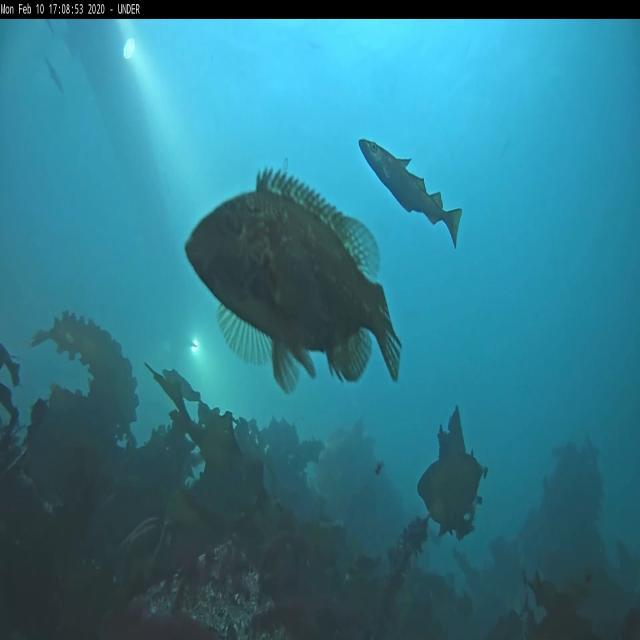fish: (182, 165, 402, 392), (358, 138, 462, 248), (44, 56, 64, 95)
